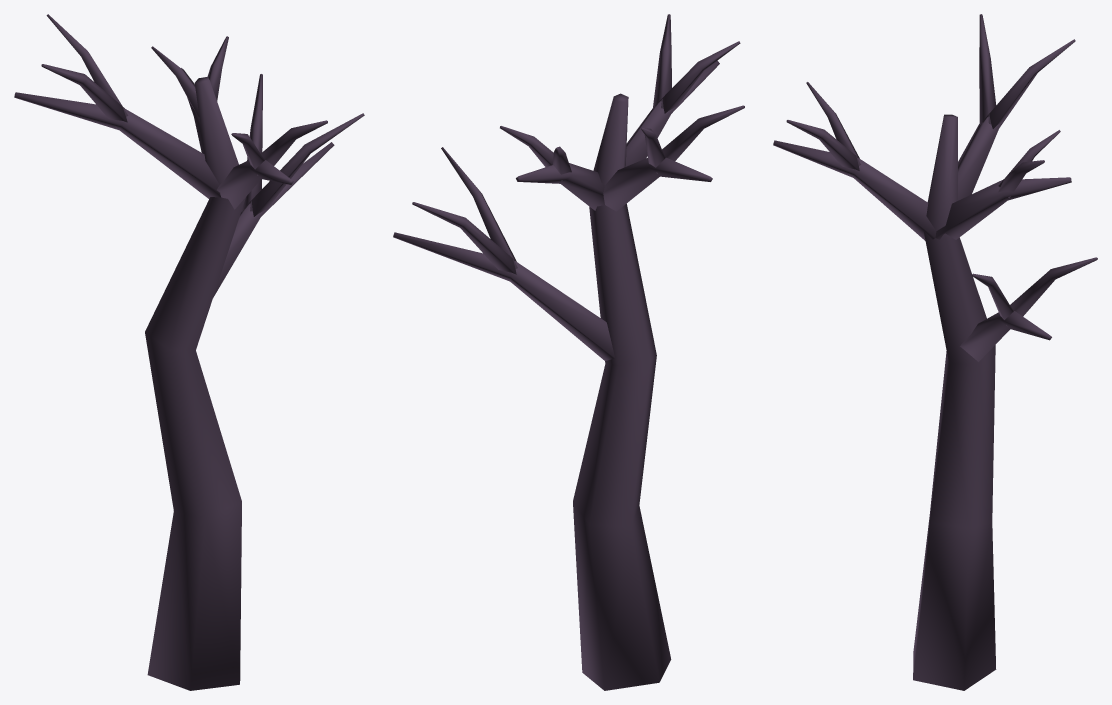
File: arbol_seco.obj
3 renders of one model, left to right at view 1: azimuth 30°, elevation 25°; view 2: azimuth 150°, elevation 25°; view 3: azimuth 270°, elevation 25°, orthographic. The views are drawn at different scales.
Visible parts, largest first — view 1: arbol_seco; view 2: arbol_seco; view 3: arbol_seco.
Part boxes in pixels (x1=…): arbol_seco: x1=14, y1=14, x2=364, y2=690; arbol_seco: x1=393, y1=14, x2=744, y2=690; arbol_seco: x1=773, y1=14, x2=1097, y2=690.
Bounding box in the file's own units: 0.9269 × 1.72 × 0.849.
